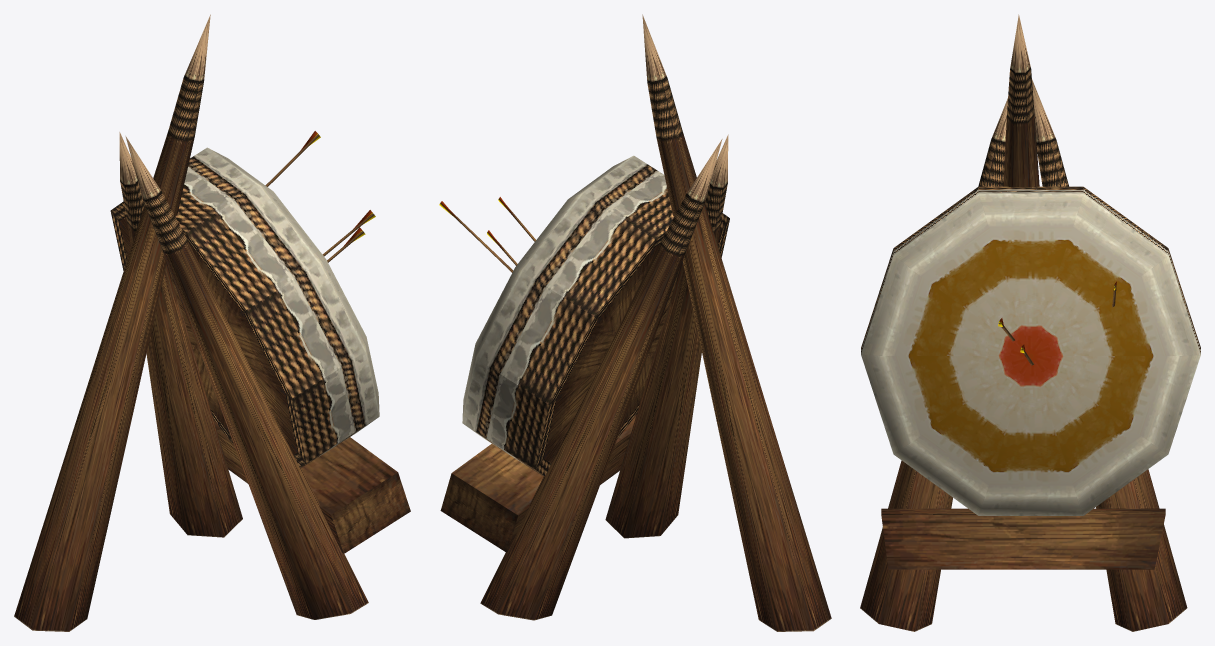
File: stormwindarcherytarget01.glb
3 views of the same model, side by side, from view 1: azimuth 30°, elevation 25°; view 2: azimuth 150°, elevation 25°; view 3: azimuth 270°, elevation 25° (orthographic).
Size of the model in its own units: 2.94 by 4.72 by 2.51.
1 material, 1 textured.
